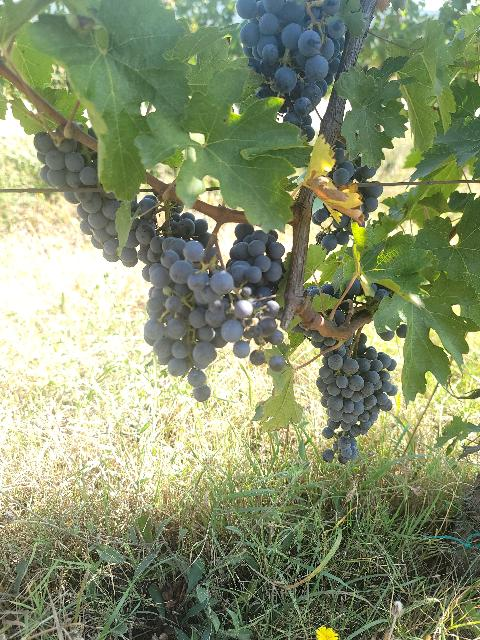grapes: (236, 0, 346, 141), (135, 195, 210, 399), (34, 131, 139, 265), (316, 344, 398, 464), (230, 224, 286, 371), (189, 270, 251, 371)
